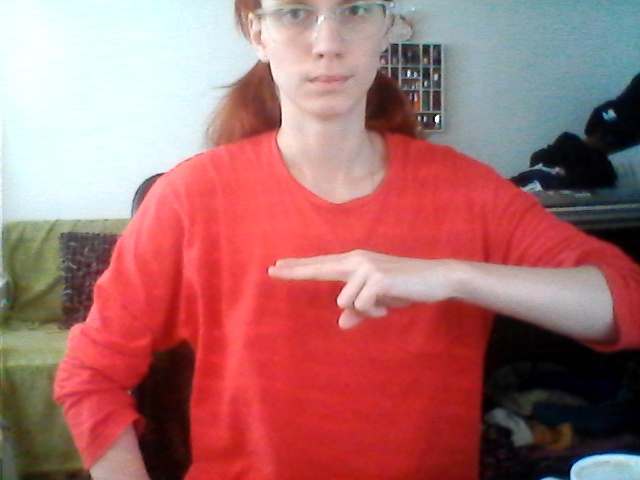frajer: (249, 237, 454, 347)
